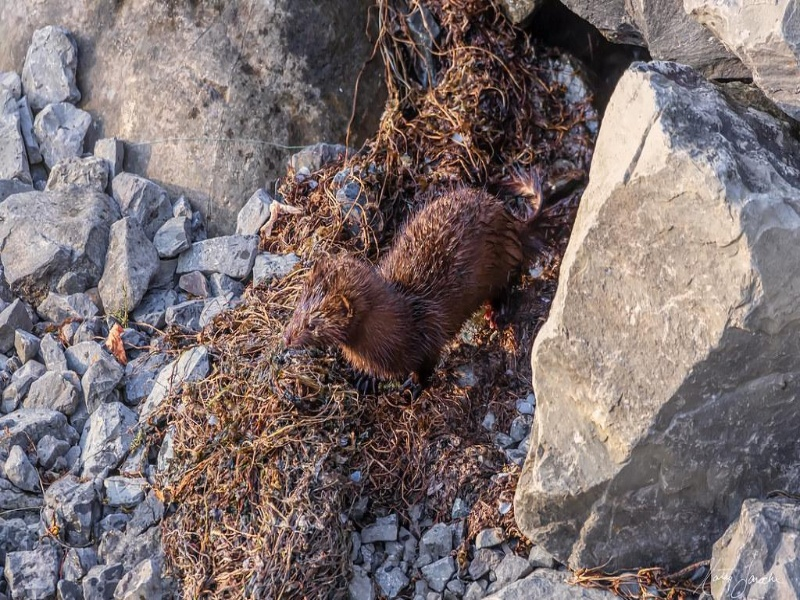minkish: (276, 161, 557, 385)
